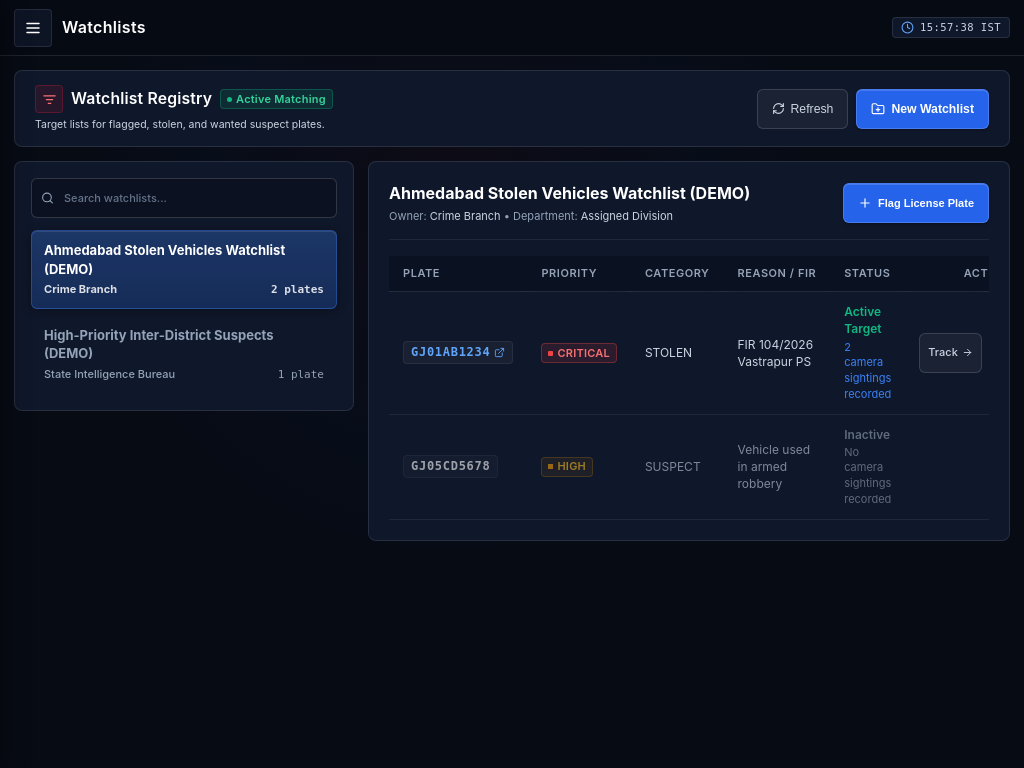
it: Watchlist Management Page (Phase 4E) › allows switching selection between watchlists and updating the detail table
Expected: the text "GJ01AB1234" is shown, top-left (411, 344), bottom-right (490, 362)
Note: Select the second watchlist
Click the text "High-Priority Inter-District Suspects (DEMO)".
click(159, 344)  # box top-left (44, 327), bottom-right (274, 362)
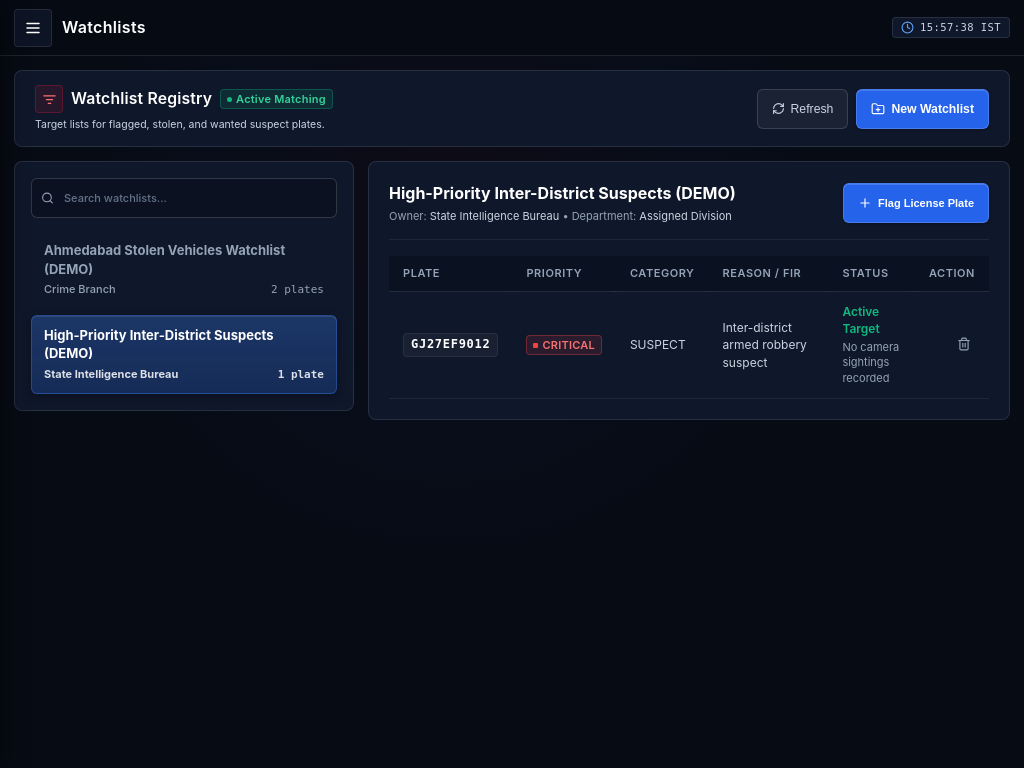
Now the text "GJ27EF9012" is shown, box top-left (403, 334), bottom-right (498, 357)
Now the text "Inter-district armed robbery suspect" is shown, box top-left (708, 292), bottom-right (828, 398)
